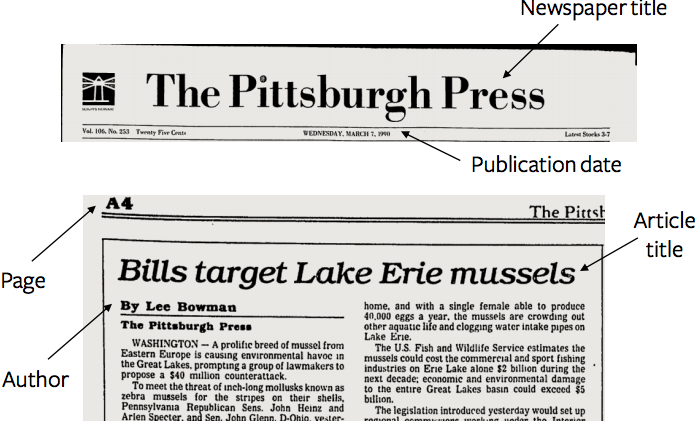news_paper: (50, 5, 662, 435)
